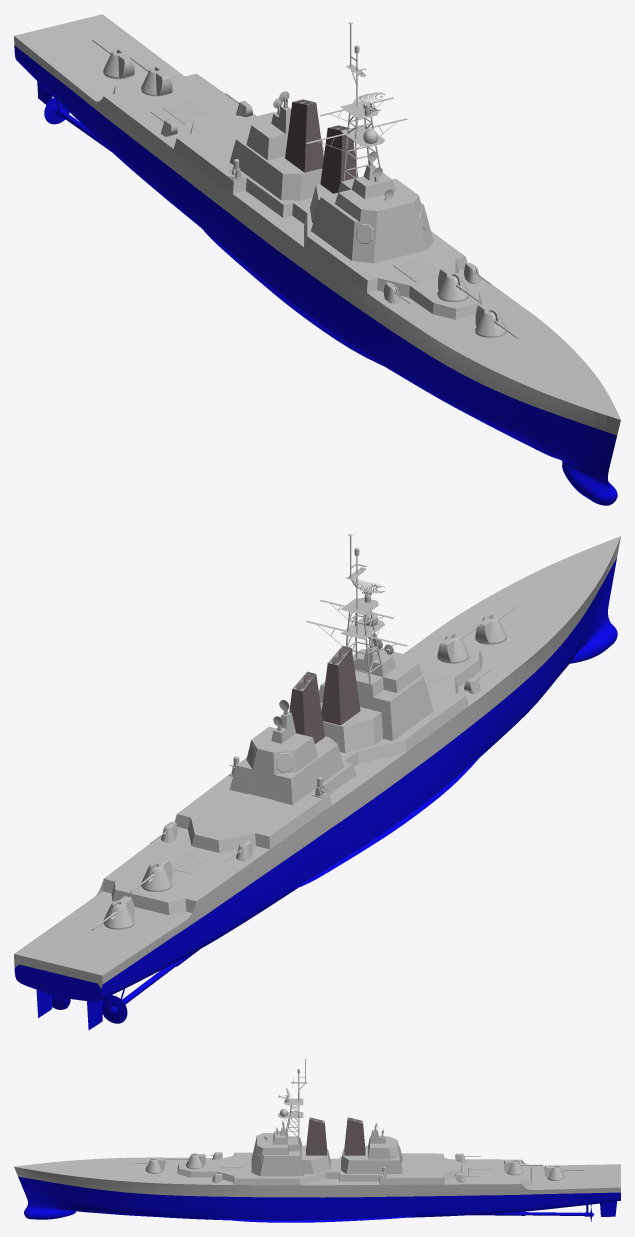
Rendered from big_modern2.fbx.
3 renders of one model, top to bottom at view 1: azimuth 30°, elevation 25°; view 2: azimuth 150°, elevation 25°; view 3: azimuth 270°, elevation 25°, orthographic. The views are drawn at different scales.
Visible parts, largest first — view 1: big_modern2; view 2: big_modern2; view 3: big_modern2.
Boxes of the visible parts, x1,y1,x2,y2 form: big_modern2: (14,14,620,505); big_modern2: (14,534,620,1030); big_modern2: (14,1059,620,1222).
Size of the model in its own units: 762 by 2029 by 7021.
